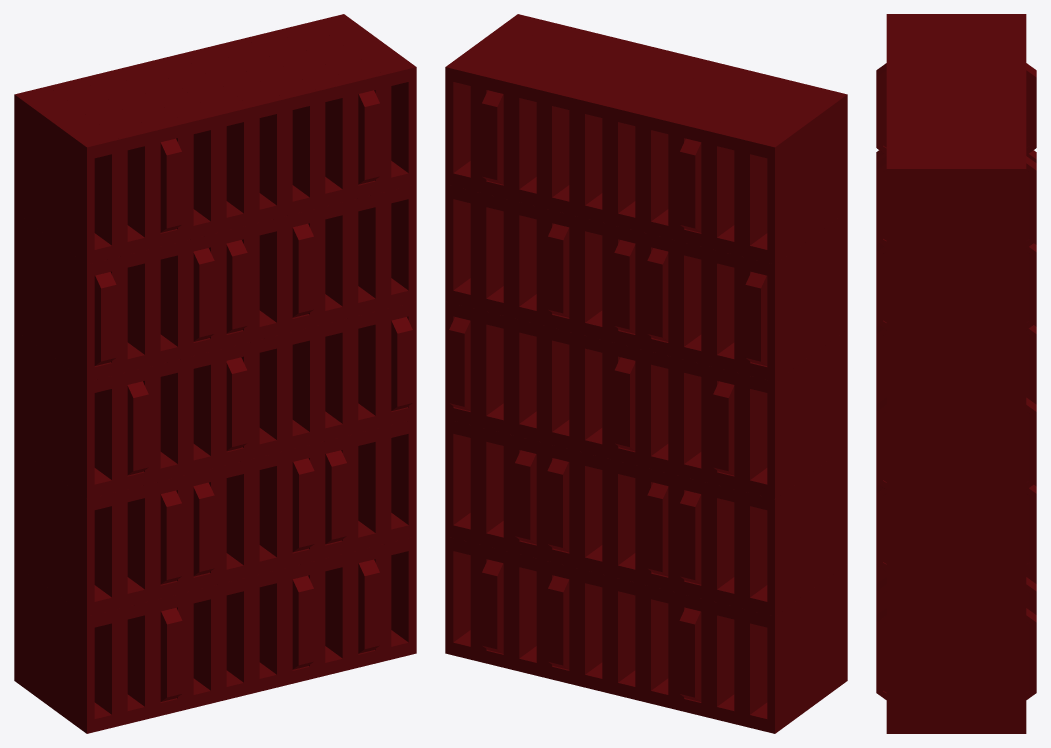
File: Library_Shelves_5_Tall_Med.fbx
3 renders of one model, left to right at view 1: azimuth 30°, elevation 25°; view 2: azimuth 150°, elevation 25°; view 3: azimuth 270°, elevation 25°, orthographic. The views are drawn at different scales.
Visible parts, largest first — view 1: Shelf; view 2: Shelf; view 3: Shelf.
Part boxes in pixels (left/top/right/bottom): Shelf: left=14, top=14, right=416, bottom=733; Shelf: left=445, top=14, right=847, bottom=733; Shelf: left=876, top=14, right=1036, bottom=733.
Bounding box in the file's own units: 525 × 893 × 230.
